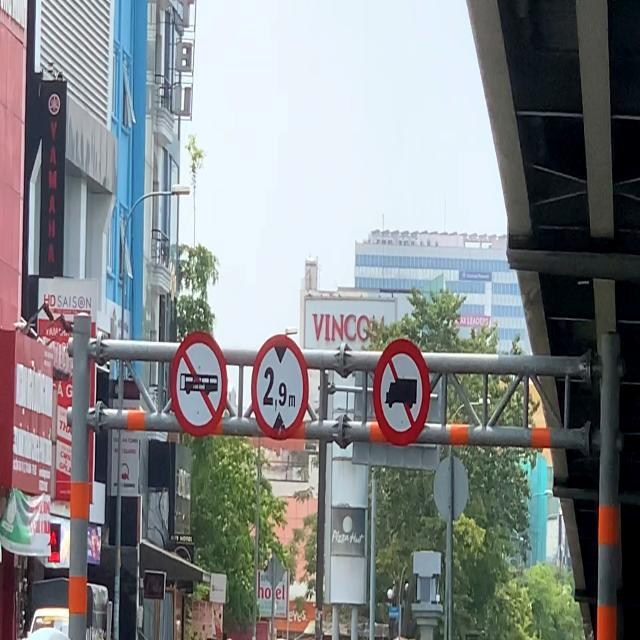Cam xe tai: (373, 338, 431, 448)
Han che chieu cao: (251, 334, 309, 442)
